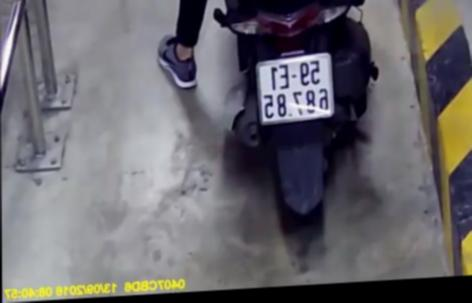License_Plate: (248, 48, 337, 130)
